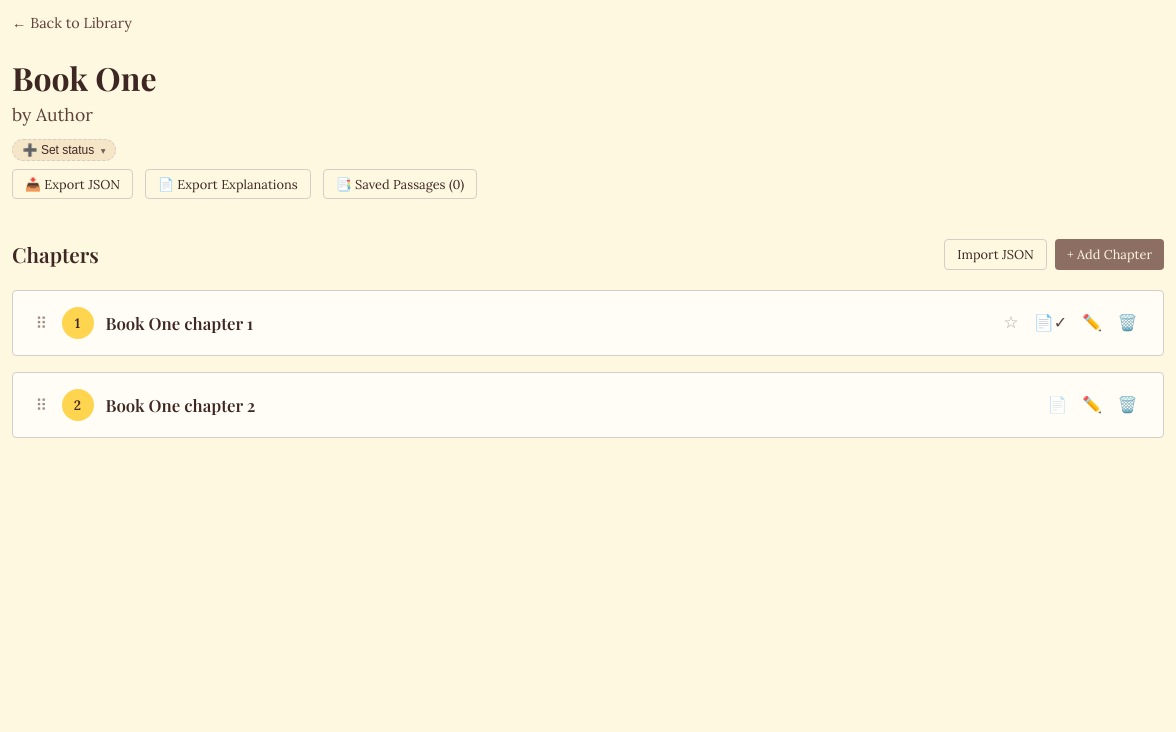
Scenario: book page failures › says the server cannot be reached when it is down
What coordinates should you click on to do the following:
click the button titled "Add to Favorite Chapters"
I would click on:
 (1011, 323)
Its box is [998,307,1024,339].
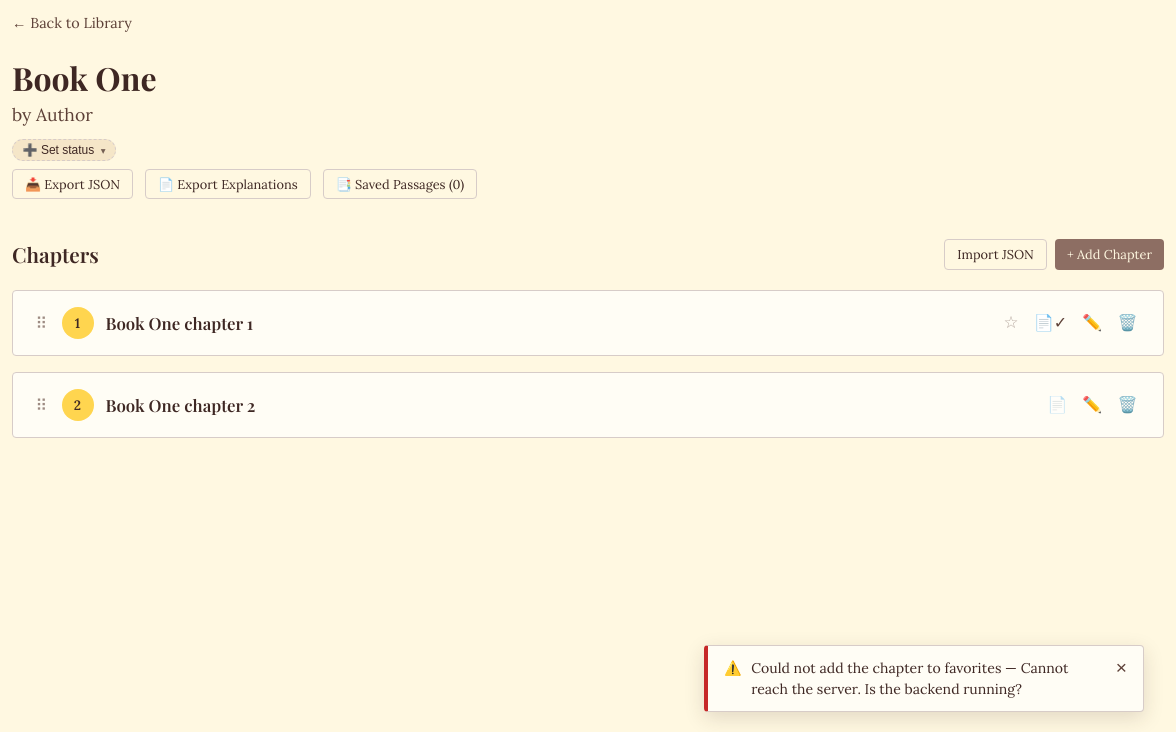
Result: the message shows "Could not add the chapter to favorites — Cannot reach the server. Is the backend running?" at [751,659,1069,698]
